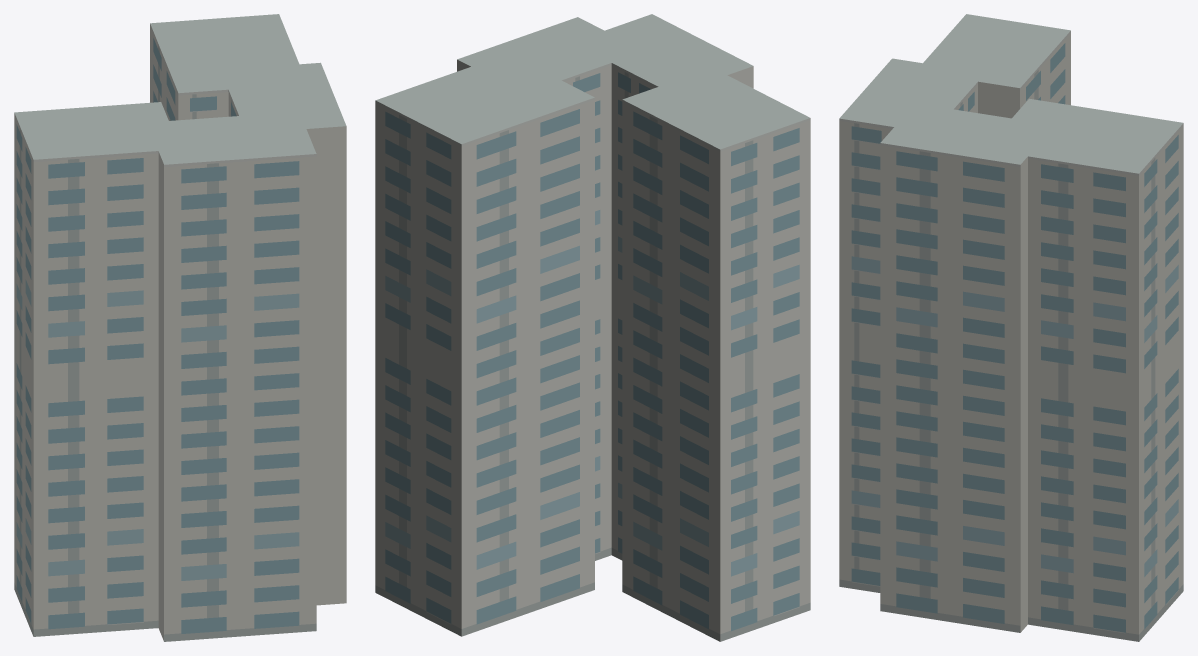
The model's file is residential-99d5f780-706e-49bc-9f9e-9a33cbf52690.glb.
The picture shows the model from 3 angles, left to right: view 1: azimuth 30°, elevation 25°; view 2: azimuth 150°, elevation 25°; view 3: azimuth 270°, elevation 25°; orthographic projection. The views are drawn at different scales.
Parts seen in each view (by area): view 1: residential-99d5f780-706e-49bc-9f9e-9a33cbf52690.tmp; view 2: residential-99d5f780-706e-49bc-9f9e-9a33cbf52690.tmp; view 3: residential-99d5f780-706e-49bc-9f9e-9a33cbf52690.tmp.
Boxes of the visible parts, box(x1,y1,x2,y2) form: residential-99d5f780-706e-49bc-9f9e-9a33cbf52690.tmp: box(14, 14, 346, 641); residential-99d5f780-706e-49bc-9f9e-9a33cbf52690.tmp: box(375, 14, 810, 641); residential-99d5f780-706e-49bc-9f9e-9a33cbf52690.tmp: box(839, 14, 1183, 641).
Size of the model in its own units: 38.06 by 52 by 34.69.
